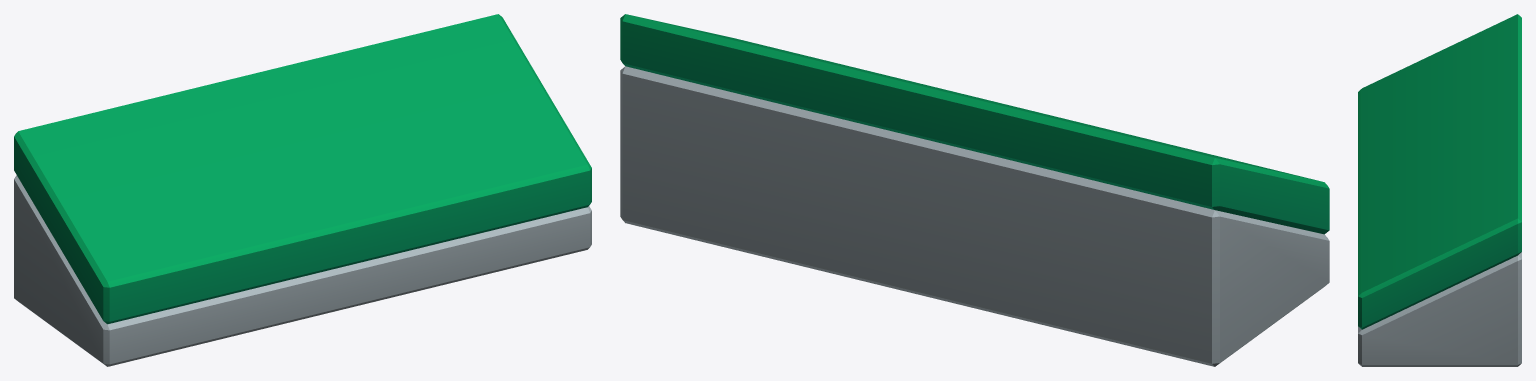
Rendered from kaykit_platform_slope_6x2x2_green.glb.
3 views of the same model, side by side, from view 1: azimuth 30°, elevation 25°; view 2: azimuth 150°, elevation 25°; view 3: azimuth 270°, elevation 25° (orthographic). The views are drawn at different scales.
Visible parts, largest first — view 1: platform_slope_6x2x2_green_visual; view 2: platform_slope_6x2x2_green_visual; view 3: platform_slope_6x2x2_green_visual.
Boxes of the visible parts, left/top/right/bottom form: platform_slope_6x2x2_green_visual: left=14, top=14, right=591, bottom=366; platform_slope_6x2x2_green_visual: left=620, top=14, right=1329, bottom=366; platform_slope_6x2x2_green_visual: left=1358, top=14, right=1521, bottom=366.
Size of what is drawn, in the model's own units: 6 by 2 by 2.
1 material, 1 textured.
